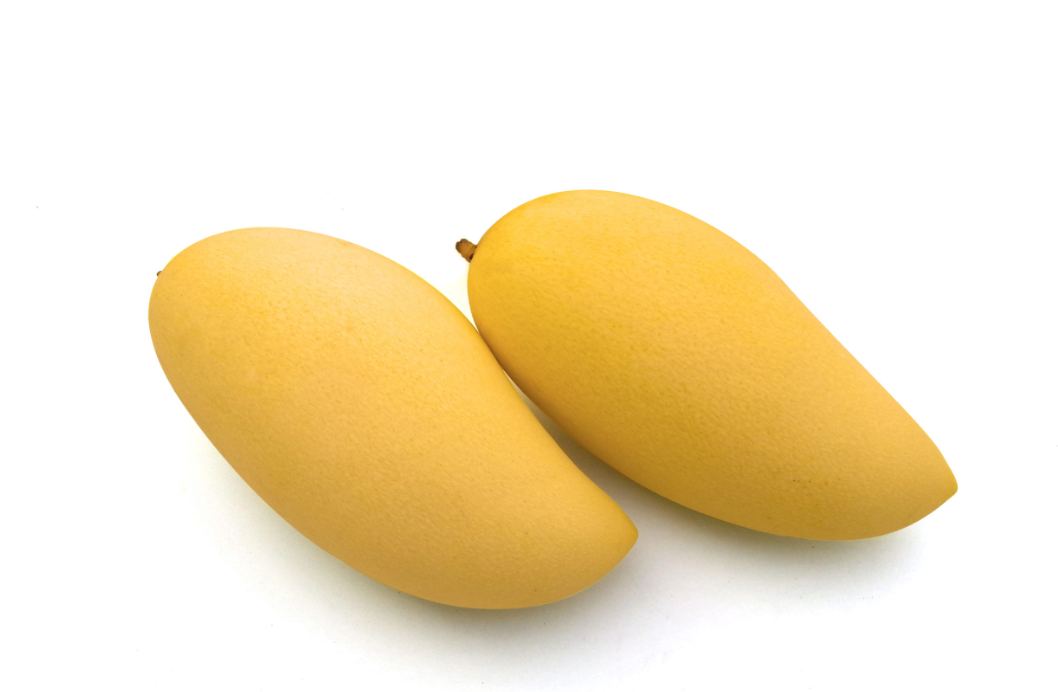mango: (147, 227, 642, 611), (465, 185, 962, 545)
